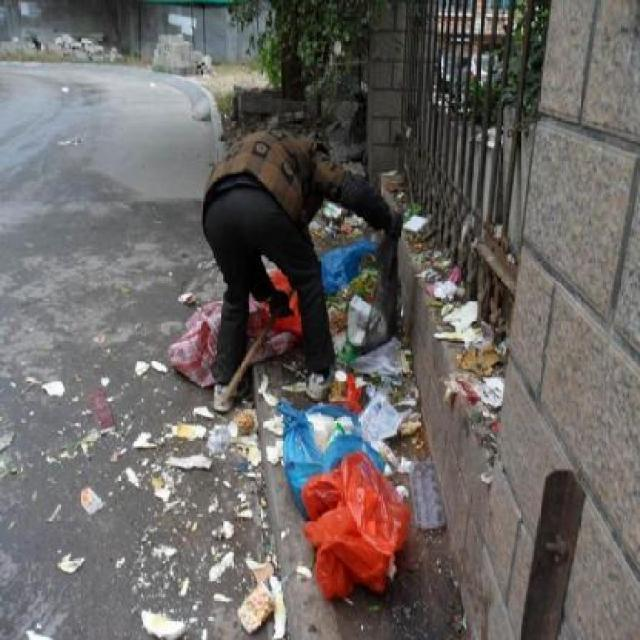garbage: (268, 389, 416, 602), (330, 243, 426, 466)
